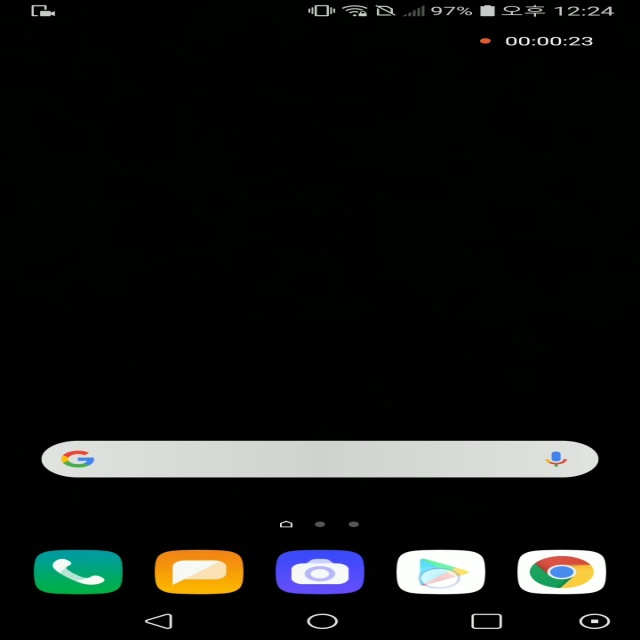Cursor: (417, 568, 462, 591)
